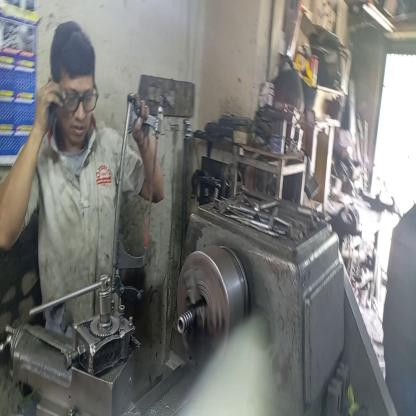lentes: (54, 73, 100, 120)
